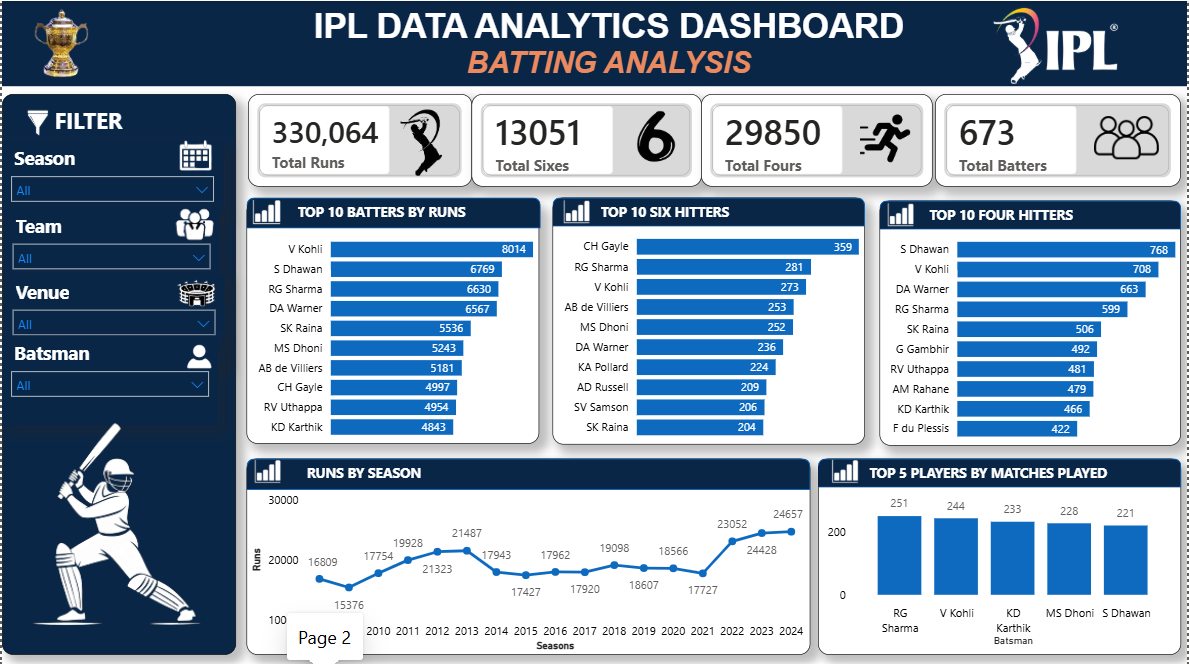

The dashboard page shown, as its layout file describes it:
{"tool":"powerbi","page":{"name":"Page 2","canvas":[1280,720],"ordinal":1},"visuals":[{"type":"shape","box":[0,0,1280.8,92.3],"z":0},{"type":"image","box":[0,0,126.3,92.3],"z":1000},{"type":"image","box":[995,4.9,285,87.4],"z":2000},{"type":"textbox","box":[314.1,0,681.7,92.3],"z":3000},{"type":"cardVisual","fields":{"Data":["deliveries.Total_Runs1"]},"box":[265,100,241.7,100],"z":4000},{"type":"cardVisual","fields":{"Data":["deliveries.Total Sixes"]},"box":[506.7,100,248.3,100],"z":5000},{"type":"cardVisual","fields":{"Data":["deliveries.Total Fours"]},"box":[755,100,250,100],"z":6000},{"type":"cardVisual","fields":{"Data":["deliveries.Total Batters"]},"box":[1006.7,100,265,100],"z":7000},{"type":"shape","box":[0,100.4,252.6,605.6],"z":8000},{"type":"image","box":[0,113.3,76.7,35],"z":9000},{"type":"slicer","fields":{"Values":["matches_clean.season"]},"box":[0,150,238.3,80],"z":10000},{"type":"slicer","fields":{"Values":["matches_clean.winner - Sort"]},"box":[1.7,223.3,233.3,96.7],"z":11000},{"type":"slicer","fields":{"Values":["matches_clean.venue"]},"box":[1.7,295,238.3,98.3],"z":12000},{"type":"image","box":[185,140,48.3,58.3],"z":13000},{"type":"image","box":[178.3,210,60,61.7],"z":14000},{"type":"image","box":[160.1,282.4,97.5,72.8],"z":15000},{"type":"slicer","fields":{"Values":["deliveries.batter"]},"box":[0,361.1,233.2,97.2],"z":16000},{"type":"clusteredBarChart","title":"Top Teams by Wins","fields":{"Category":["deliveries.batter"],"Y":["Sum(deliveries.batsman_runs)"]},"box":[264.7,215.7,315.7,262.7],"z":17000},{"type":"shape","box":[264.7,211.8,317.6,33.3],"z":18000},{"type":"image","box":[239.2,196.1,92.2,68.6],"z":19000},{"type":"clusteredBarChart","title":"Top Teams by Wins","fields":{"Category":["deliveries.batter"],"Y":["deliveries.Total Sixes"]},"box":[594.1,211.8,337.3,266.7],"z":20000},{"type":"shape","box":[594.1,211.8,337.3,31.4],"z":21000},{"type":"clusteredBarChart","title":"Top Teams by Wins","fields":{"Category":["deliveries.batter"],"Y":["deliveries.Total Fours"]},"box":[947.1,215.7,325.5,264.7],"z":22000},{"type":"lineChart","fields":{"Category":["matches_clean.season"],"Y":["Sum(deliveries.batsman_runs)"]},"box":[263.9,493.9,608.8,212.1],"z":23000},{"type":"columnChart","fields":{"Category":["deliveries.batter"],"Y":["Count(deliveries.match_id)"]},"box":[880.9,493.9,391.9,212.1],"z":24000},{"type":"textbox","box":[313.7,211.8,249,31.4],"z":25000},{"type":"textbox","box":[641.2,212.1,195.9,32.4],"z":26000},{"type":"image","box":[582.4,198,74.5,64.7],"z":27000},{"type":"shape","box":[947.1,215.7,325.5,31.4],"z":28000},{"type":"image","box":[933.3,200,74.5,64.7],"z":29000},{"type":"textbox","box":[996.1,215.7,168.6,31.4],"z":30000},{"type":"shape","box":[263.9,493.9,608.8,34],"z":31000},{"type":"shape","box":[880.4,494.1,392.2,31.4],"z":32000},{"type":"image","box":[249,478.4,74.5,64.7],"z":33000},{"type":"textbox","box":[323.5,494.1,154.9,33.3],"z":34000},{"type":"textbox","box":[931.4,494.1,317.6,31.4],"z":35000},{"type":"image","box":[872.5,478.4,74.5,64.7],"z":36000},{"type":"image","box":[160,358.3,105,51.7],"z":37000},{"type":"textbox","box":[51.7,106.7,186.7,46.7],"z":38000},{"type":"image","box":[657.4,113.3,97.2,66.4],"z":39000},{"type":"image","box":[891.7,95,103.3,113.3],"z":40000},{"type":"image","box":[1179,106.3,69.9,81.5],"z":41000},{"type":"image","box":[398.3,105,108.3,95],"z":42000},{"type":"image","box":[0,410,248.3,310],"z":43000}]}

Visuals, with their boxes in screenshot pixels (x1, y1, x2, y2), scaled from the page's 1280x720 canvas onto the 1189x664 screenshot:
shape: [0, 0, 1188, 85]
image: [0, 0, 117, 85]
image: [924, 5, 1188, 85]
textbox: [292, 0, 925, 85]
cardVisual - deliveries.Total_Runs1: [246, 92, 471, 184]
cardVisual - deliveries.Total Sixes: [471, 92, 701, 184]
cardVisual - deliveries.Total Fours: [701, 92, 934, 184]
cardVisual - deliveries.Total Batters: [935, 92, 1181, 184]
shape: [0, 93, 235, 651]
image: [0, 104, 71, 137]
slicer - matches_clean.season: [0, 138, 221, 212]
slicer - matches_clean.winner - Sort: [2, 206, 218, 295]
slicer - matches_clean.venue: [2, 272, 223, 363]
image: [172, 129, 217, 183]
image: [166, 194, 221, 251]
image: [149, 260, 239, 328]
slicer - deliveries.batter: [0, 333, 217, 423]
"Top Teams by Wins" clusteredBarChart: [246, 199, 539, 441]
shape: [246, 195, 541, 226]
image: [222, 181, 308, 244]
"Top Teams by Wins" clusteredBarChart: [552, 195, 865, 441]
shape: [552, 195, 865, 224]
"Top Teams by Wins" clusteredBarChart: [880, 199, 1182, 443]
lineChart - matches_clean.season x Sum(deliveries.batsman_runs): [245, 455, 811, 651]
columnChart - deliveries.batter x Count(deliveries.match_id): [818, 455, 1182, 651]
textbox: [291, 195, 523, 224]
textbox: [596, 196, 778, 225]
image: [541, 183, 610, 242]
shape: [880, 199, 1182, 228]
image: [867, 184, 936, 244]
textbox: [925, 199, 1082, 228]
shape: [245, 455, 811, 487]
shape: [818, 456, 1182, 485]
image: [231, 441, 301, 501]
textbox: [301, 456, 444, 486]
textbox: [865, 456, 1160, 485]
image: [810, 441, 880, 501]
image: [149, 330, 246, 378]
textbox: [48, 98, 221, 141]
image: [611, 104, 701, 166]
image: [828, 88, 924, 192]
image: [1095, 98, 1160, 173]
image: [370, 97, 471, 184]
image: [0, 378, 231, 663]
